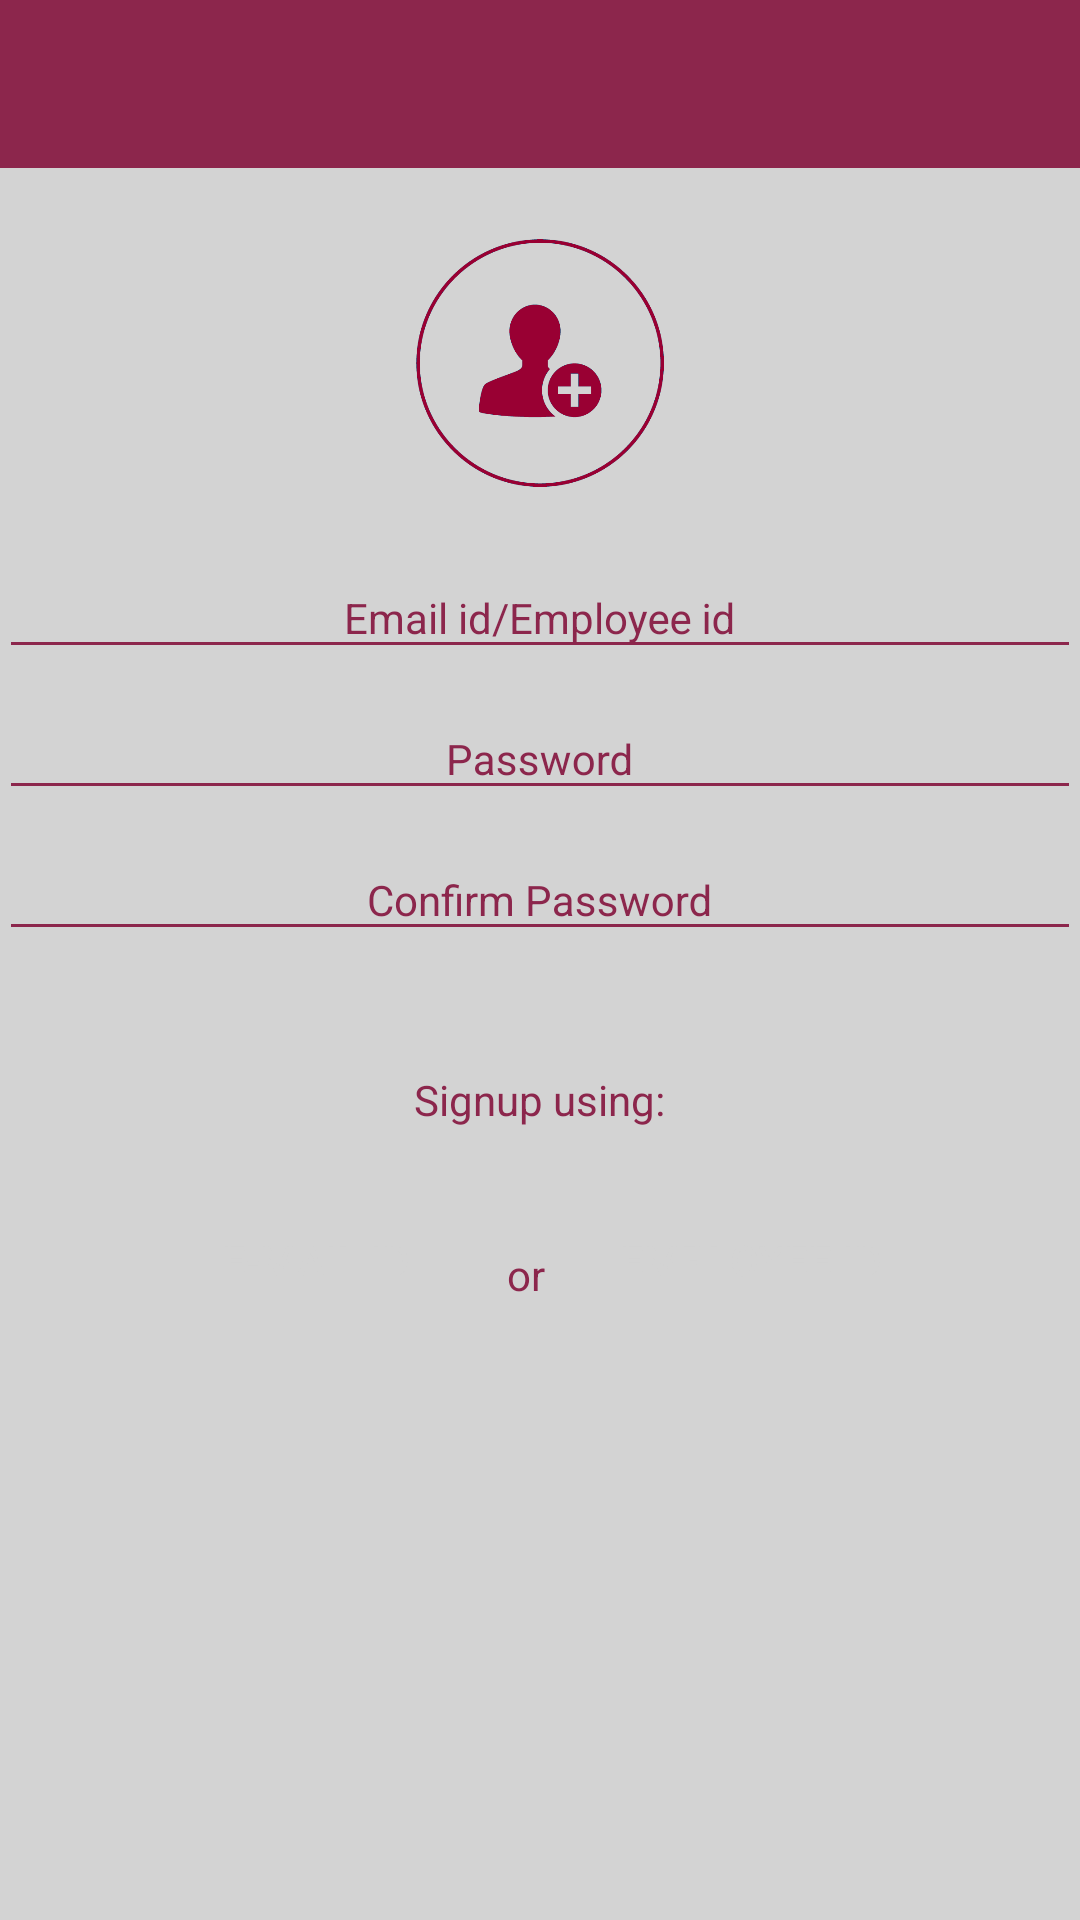

Where to tap for icons on this 1080px x 1920px app screen, as [x,y]:
iconsignup: [540,363]
